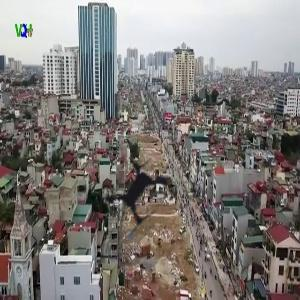drone: (78, 135, 204, 261)
